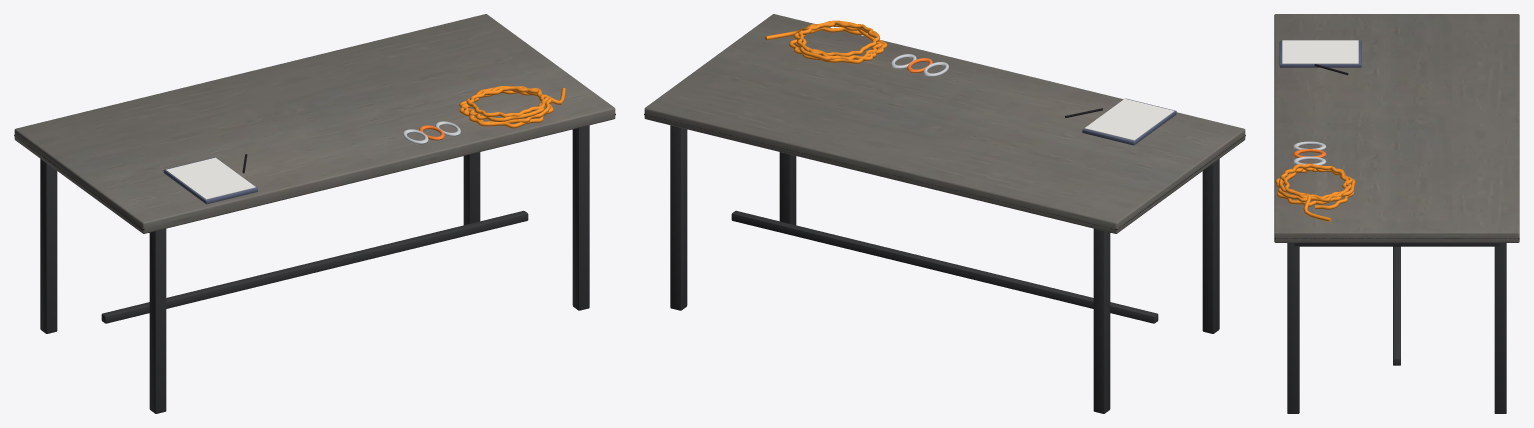
File: tavolo-polaroid.glb
3 renders of one model, left to right at view 1: azimuth 30°, elevation 25°; view 2: azimuth 150°, elevation 25°; view 3: azimuth 270°, elevation 25°, orthographic. The views are drawn at different scales.
Parts seen in each view (by area): view 1: tavolo-polaroid; view 2: tavolo-polaroid; view 3: tavolo-polaroid.
Part boxes in pixels (<box>): tavolo-polaroid: <box>14,14,615,413</box>; tavolo-polaroid: <box>644,14,1245,413</box>; tavolo-polaroid: <box>1274,14,1519,413</box>.
Bounding box in the file's own units: 1.9 × 0.8284 × 0.9.
Materials: 8 (1 with a texture image).
